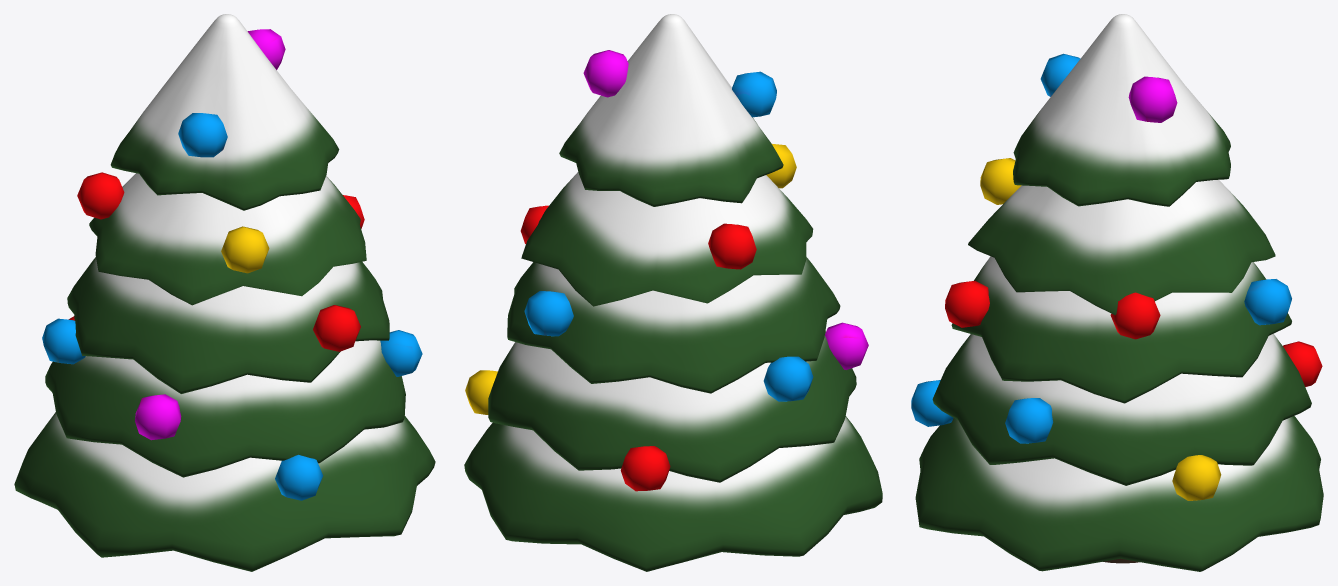
Rendered from tree.fbx.
The picture shows the model from 3 angles, left to right: view 1: azimuth 30°, elevation 25°; view 2: azimuth 150°, elevation 25°; view 3: azimuth 270°, elevation 25°; orthographic projection. The views are drawn at different scales.
Parts seen in each view (by area): view 1: tree; view 2: tree; view 3: tree.
Part boxes in pixels (<box>): tree: <box>14,14,435,571</box>; tree: <box>464,14,882,571</box>; tree: <box>911,14,1323,571</box>.
Size of the model in its own units: 244 by 345 by 247.
2 materials, 2 textured.
